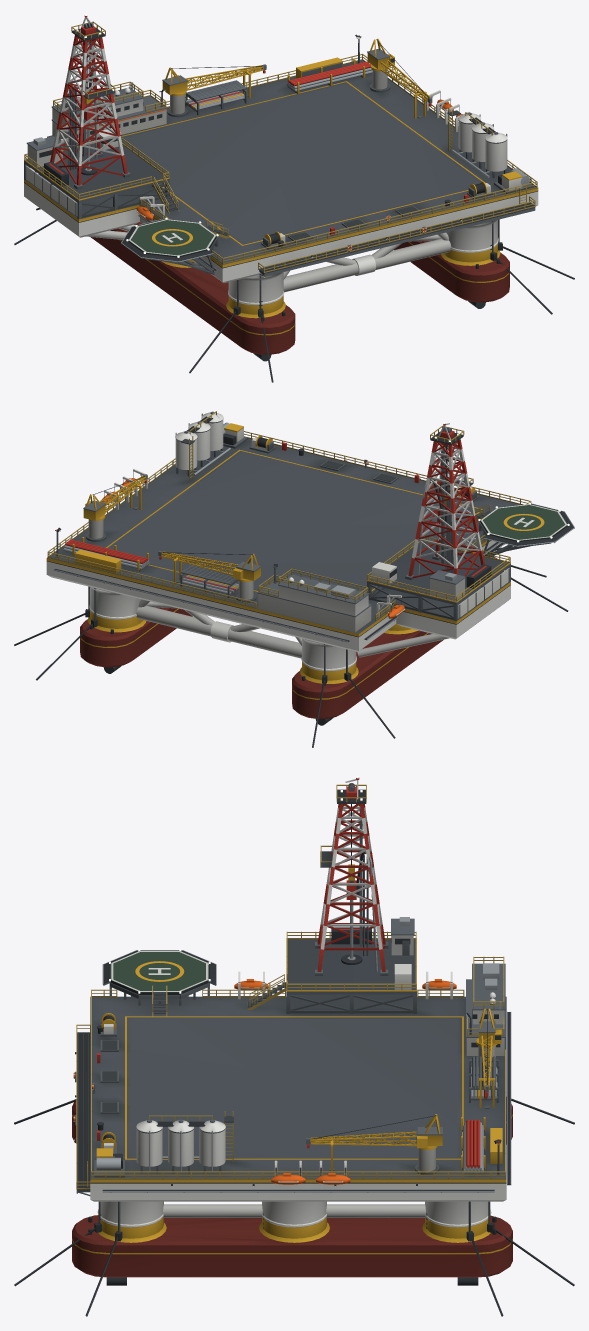
3 renders of one model, top to bottom at view 1: azimuth 30°, elevation 25°; view 2: azimuth 150°, elevation 25°; view 3: azimuth 270°, elevation 25°, orthographic. The views are drawn at different scales.
Parts seen in each view (by area): view 1: platform_base; view 2: platform_base; view 3: platform_base.
Part boxes in pixels (x1,y1,x2,y2): platform_base: (14,14,574,382); platform_base: (14,411,574,747); platform_base: (14,776,574,1316).
Size of the model in its own units: 13.87 by 9.22 by 13.74.
